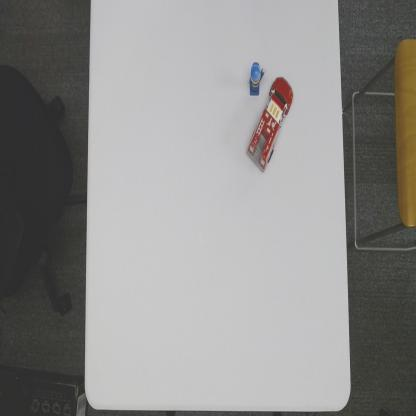Firetruck: (246, 74, 295, 173)
